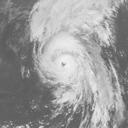cyclone: (33, 27, 115, 105)
